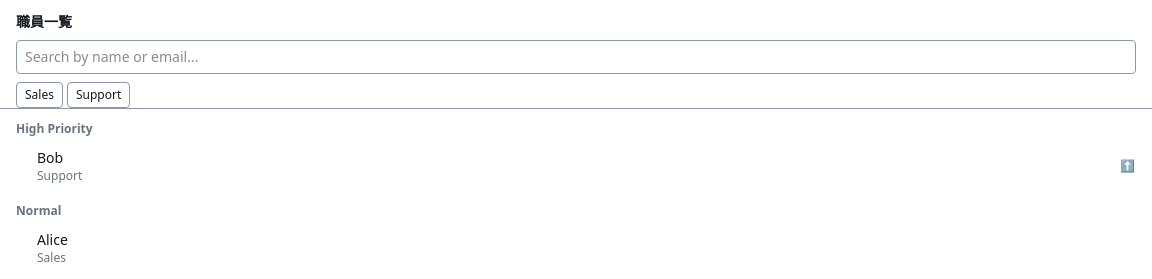
Test: PersonnelPanel › filters by department using buttons (legacy mode)
Expected: the button "Support" is shown, [67,82,130,108]
# Filter by Sales
Click the button "Sales".
click(39, 95)  # box [16,82,63,108]
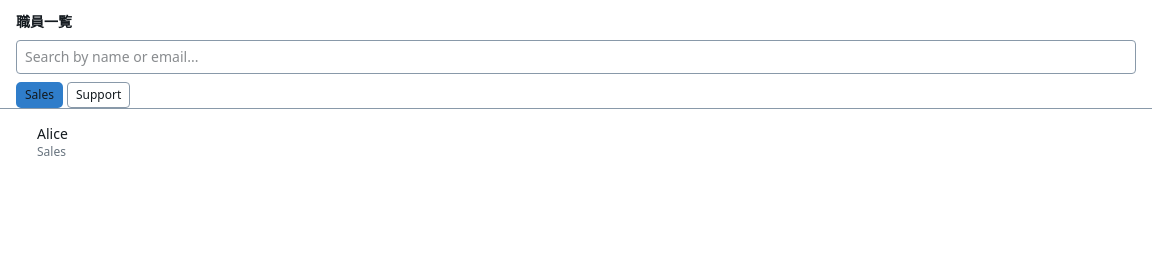
Expected: the text "Alice" is shown, [37,124,68,143]
Expected: the button "Bob" is gone
# Toggle off
Click the button "Sales".
click(39, 95)  # box [16,82,63,108]
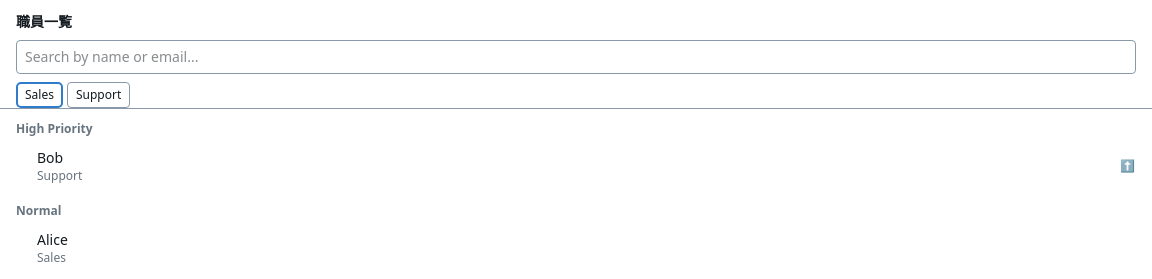
Expected: the text "Alice" is shown, [37,230,68,249]
Expected: the text "Bob" is shown, [37,148,63,167]
